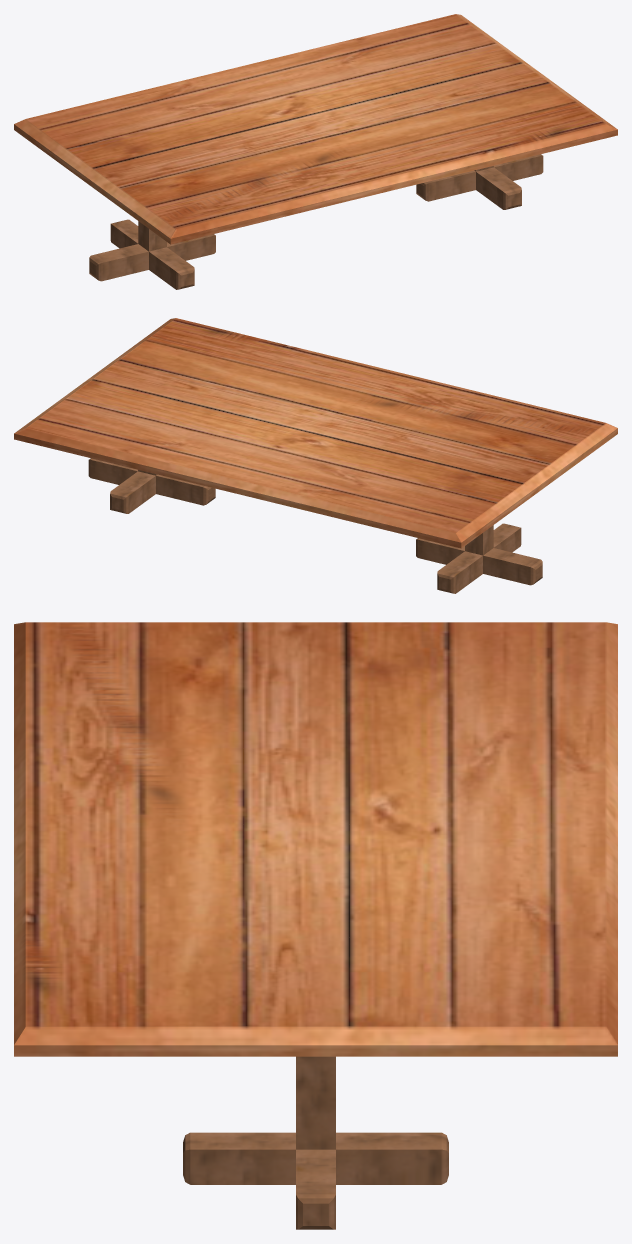
Rendered from TABLE3.fbx.
3 renders of one model, top to bottom at view 1: azimuth 30°, elevation 25°; view 2: azimuth 150°, elevation 25°; view 3: azimuth 270°, elevation 25°, orthographic. The views are drawn at different scales.
Visible parts, largest first — view 1: TABLE3; view 2: TABLE3; view 3: TABLE3.
Part boxes in pixels (x1,y1,x2,y2): TABLE3: (14,14,617,289); TABLE3: (14,318,617,593); TABLE3: (14,622,617,1229).
Size of the model in its own units: 271 by 59.33 by 164.
